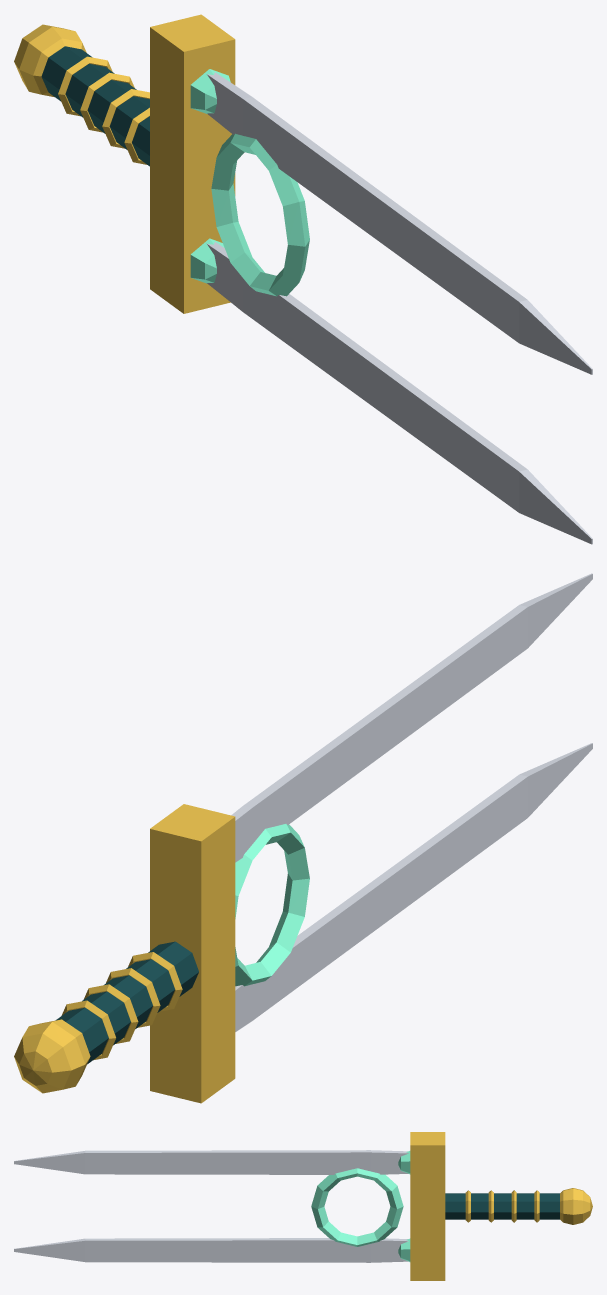
File: Espada_FiloDiapason.obj
The picture shows the model from 3 angles, top to bottom: view 1: azimuth 30°, elevation 25°; view 2: azimuth 150°, elevation 25°; view 3: azimuth 270°, elevation 25°; orthographic projection. The views are drawn at different scales.
Visible parts, largest first — view 1: Espada_FiloDiapason; view 2: Espada_FiloDiapason; view 3: Espada_FiloDiapason.
Part boxes in pixels (box(x1,y1,x2,y2)): Espada_FiloDiapason: box(14, 14, 592, 544); Espada_FiloDiapason: box(14, 573, 592, 1103); Espada_FiloDiapason: box(14, 1132, 592, 1280).
Bounding box in the file's own units: 9 × 34 × 132.
